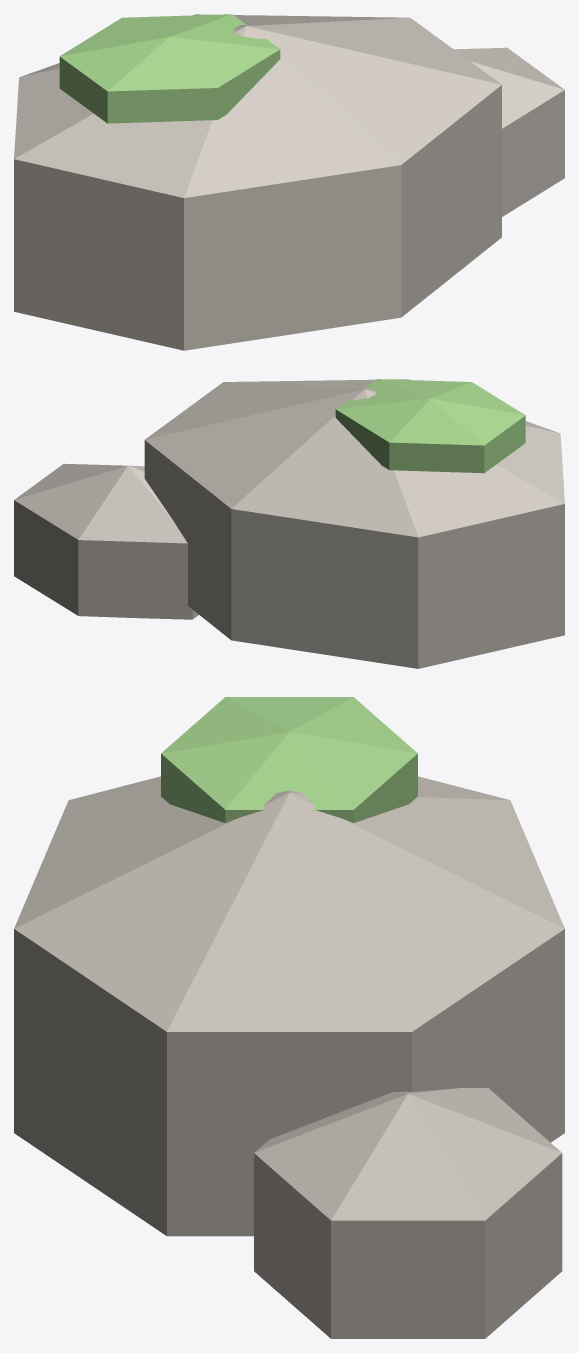
Rendered from rock.glb.
The picture shows the model from 3 angles, top to bottom: view 1: azimuth 30°, elevation 25°; view 2: azimuth 150°, elevation 25°; view 3: azimuth 270°, elevation 25°; orthographic projection. The views are drawn at different scales.
Parts seen in each view (by area): view 1: Player; view 2: Player; view 3: Player.
Part boxes in pixels (left/top/right/bottom): Player: left=14, top=14, right=564, bottom=350; Player: left=14, top=379, right=564, bottom=668; Player: left=14, top=697, right=564, bottom=1338.
Size of the model in its own units: 1.48 by 0.78 by 0.9287.
